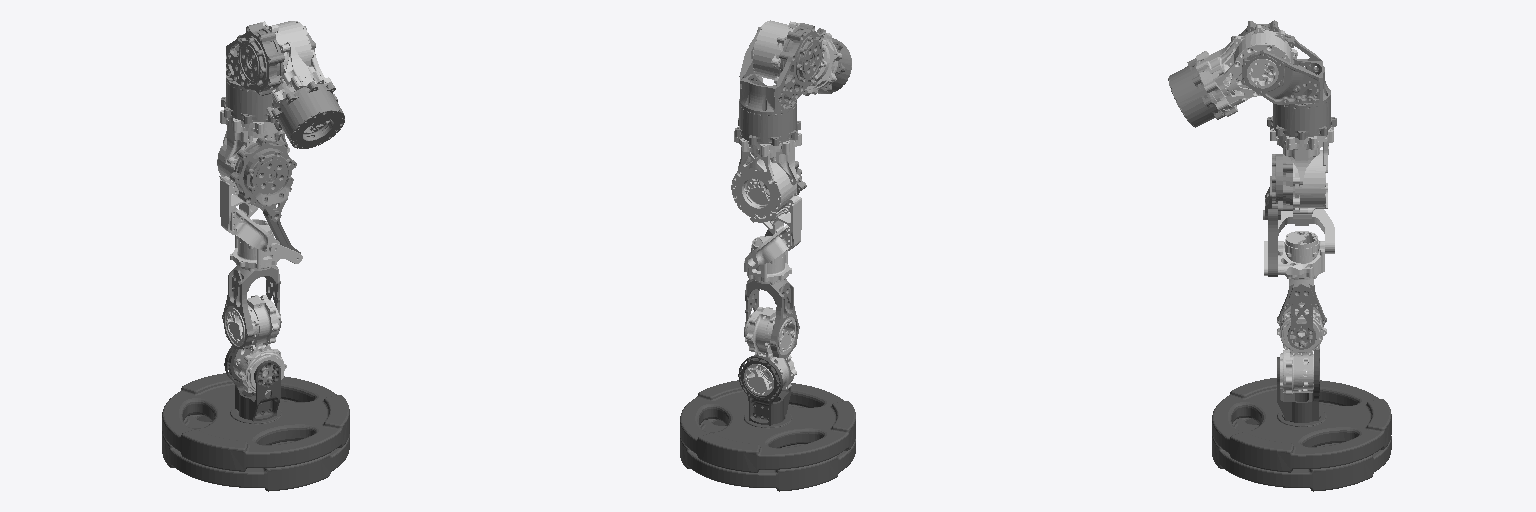
The robot description file, URDF, robot "raipal_stub-10_L":
<?xml version="1.0" encoding="utf-8"?>
<robot name="raipal_stub-10_L">
  <!-- [URDF-WRITER] Created with urdf-writer script (by CHH) on 2026-01-27 21:55:36.753602-->

  <!-- [URDF-WRITER] from module [_fixed-base] -->

  <!-- this link makes the robot fixed-base in RAISIM -->
  <link name="world"></link>

  <link name="base"></link>

  <joint name="base_fix" type="fixed">
    <origin xyz="0 0 0.8" rpy="0 0 0"/>
    <parent link="world" />
    <child link="base" />
    <axis xyz="0 0 0" />
  </joint>


  <!-- [URDF-WRITER] from module [raipal_L] -->

  <link name="L_base">
    <!-- CHH / 2025-09-01-20:14 -->
    <!-- mirrored from [L_base] (frame: R0_base)-->
    <inertial>
      <origin 
        xyz="-0.00013000 0.06389000 -0.05559000"
        rpy="0 0 0" />
      <mass value="0.79658000" />
      <inertia
          ixx="0.00074742"
          ixy="-1.892780e-6"
          ixz="-1.179560e-6"
          iyy="0.00098187"
          iyz="0.00013334"
          izz="0.00082394" />
    </inertial>
    <visual>
      <origin
        xyz="0 0 0"
        rpy="0 0 0" />
      <geometry>
        <mesh filename="../meshes/L_base.STL" />
      </geometry>
      <material name="">
        <color rgba=".6 .6 .6 1" />
      </material>
    </visual>
    <!--</collision>
      <origin
        xyz="0 0 0"
        rpy="0 0 0" />
      <geometry>
        <mesh filename="../meshes/L_base.STL" />
      </geometry>
    </collision>-->
  </link>

  <joint name="L_fix" type="fixed">
    <origin xyz="0 0 0" rpy="0 0 0"/>
    <parent link="base" />
    <child link="L_base" />
    <axis xyz="0 0 0" />
  </joint>

  <link name="L_collar">
    <!-- CHH / 2025-09-01-20:14 -->
    <!-- mirrored from [L_collar] (frame: R1_flexion)-->
    <inertial>
      <origin 
        xyz="0.00471000 1.000000e-5 0.10057000"
        rpy="0 0 0" />
      <mass value="1.72283000" />
      <inertia
          ixx="0.00466072"
          ixy="-5.127800e-7"
          ixz="-0.00028338"
          iyy="0.00434837"
          iyz="-8.010400e-7"
          izz="0.00167296" />
    </inertial>
    <visual>
      <origin
        xyz="0 0 0"
        rpy="0 0 0" />
      <geometry>
        <mesh filename="../meshes/L_collar.STL" />
      </geometry>
      <material name="">
        <color rgba="0.8 0.8 0.8 1" />
      </material>
    </visual>
    <!--</collision>
      <origin
        xyz="0 0 0"
        rpy="0 0 0" />
      <geometry>
        <mesh filename="../meshes/L_collar.STL" />
      </geometry>
    </collision>-->
  </link>

  <joint name="L1_flexion" type="revolute"> <!--[0]-->
    <origin
      xyz="0 0.037198 -0.0709"
      rpy="-1.0472 0 0" />
    <parent link="L_base" />
    <child link="L_collar" />
    <axis
      xyz="0 0 -1" />
    <limit
      lower="-1.57"
      upper="3.14"
      effort="181"
      velocity="13.9" />
    <dynamics rotor_inertia = "0.0576402034658611" />
    <!-- Calculated by CHH on 2025-09-01-20:14-->  
  </joint>

  <link name="L_shoulder">
    <!-- CHH / 2025-09-01-20:14 -->
    <!-- mirrored from [L_shoulder] (frame: R2_adduction)-->
    <inertial>
      <origin 
        xyz="-0.03309000 -0.04277000 0.04408000"
        rpy="0 0 0" />
      <mass value="1.92988000" />
      <inertia
          ixx="0.00554587"
          ixy="-0.00224326"
          ixz="-0.00046924"
          iyy="0.00422168"
          iyz="-0.00058524"
          izz="0.00699049" />
    </inertial>
    <visual>
      <origin
        xyz="0 0 0"
        rpy="0 0 0" />
      <geometry>
        <mesh filename="../meshes/L_shoulder.STL" />
      </geometry>
      <material name="">
        <color rgba="0.6 0.6 0.6 1" />
      </material>
    </visual>
    <!--</collision>
      <origin
        xyz="0 0 0"
        rpy="0 0 0" />
      <geometry>
        <mesh filename="../meshes/L_shoulder.STL" />
      </geometry>
    </collision>-->
  </link>

  <joint name="L2_adduction" type="revolute"> <!--[1]-->
    <origin
      xyz="0.0373 0 0.1418"
      rpy="1.5707963267949 1.0472 -1.5707963267949" />
    <parent link="L_collar" />
    <child link="L_shoulder" />
    <axis
      xyz="0 0 1" />
    <limit
      lower="-2.618"
      upper="0.488"
      effort="181"
      velocity="13.9" />
    <dynamics rotor_inertia = "0.0576402034658611" /> <!-- CHH / 2025-09-01-20:30-->
  </joint>

  <link name="L_humerus">
    <!-- CHH / 2025-09-01-20:14 -->
    <!-- mirrored from [L_humerus] (frame: R3_rotation)-->
    <inertial>
      <origin 
        xyz="-0.00369000 -0.00351000 0.11625000"
        rpy="0 0 0" />
      <mass value="1.96262000" />
      <inertia
          ixx="0.00777442"
          ixy="1.197057e-5"
          ixz="0.00065917"
          iyy="0.00822155"
          iyz="0.00015972"
          izz="0.00201683" />
    </inertial>
    <visual>
      <origin
        xyz="0 0 0"
        rpy="0 0 0" />
      <geometry>
        <mesh filename="../meshes/L_humerus.STL" />
      </geometry>
      <material name="">
        <color rgba="0.8 0.8 0.8 1" />
      </material>
    </visual>
    <!--</collision>
      <origin
        xyz="0 0 0"
        rpy="0 0 0" />
      <geometry>
        <mesh filename="../meshes/L_humerus.STL" />
      </geometry>
    </collision>-->
  </link>

  <joint name="L3_rotation" type="revolute"> <!--[2]-->
    <origin
      xyz="-0.06 -0.06025 0.0373"
      rpy="1.5707963267949 1.5707963267949 0" />
    <parent link="L_shoulder" />
    <child link="L_humerus" />
    <axis
      xyz="0 0 1" />
    <limit
      lower="-3.14"
      upper="3.14"
      effort="181"
      velocity="13.9" />
    <dynamics rotor_inertia = "0.0576402034658611" /> <!-- CHH / 2025-09-01-20:30-->
  </joint>

  <link name="L_elb_input">
    <!-- CHH / 2025-09-01-20:14 -->
    <!-- mirrored from [L_elb_input] (frame: R4a_elbow_power)-->
    <inertial>
      <origin 
        xyz="-2.000000e-5 -0.00335000 0.05897000"
        rpy="0 0 0" />
      <mass value="0.83412000" />
      <inertia
          ixx="0.00071114"
          ixy="-7.660000e-7"
          ixz="-9.255500e-7"
          iyy="0.00059983"
          iyz="5.504818e-5"
          izz="0.00080767" />
    </inertial>
    <visual>
      <origin
        xyz="0 0 0"
        rpy="0 0 0" />
      <geometry>
        <mesh filename="../meshes/L_elb_input.STL" />
      </geometry>
      <material name="">
        <color rgba="0.6 0.6 0.6 1" />
      </material>
    </visual>
    <!--</collision>
      <origin
        xyz="0 0 0"
        rpy="0 0 0" />
      <geometry>
        <mesh filename="../meshes/L_elb_input.STL" />
      </geometry>
    </collision>-->
  </link>

  <joint name="L4a_elbow_power" type="revolute"> <!--[3]-->
    <origin
      xyz="0 -0.0373 0.1418"
      rpy="-1.5707963267949 0 0" />
    <parent link="L_humerus" />
    <child link="L_elb_input" />
    <axis
      xyz="0 0 -1" />
    <limit
      lower="0"
      upper="1.556"
      effort="181"
      velocity="13.9" />
    <dynamics rotor_inertia = "0.0576402034658611" /> <!-- CHH / 2025-09-01-20:30-->
  </joint>

  <link name="L_elb_bar">
    <!-- CHH / 2025-09-01-20:14 -->
    <!-- mirrored from [L_elb_bar] (frame: R4b_elbow_bar_input)-->
    <inertial>
      <origin 
        xyz="0.04274000 -0.00159000 -4.000000e-5"
        rpy="0 0 0" />
      <mass value="0.05314000" />
      <inertia
          ixx="2.335610e-6"
          ixy="0.0"
          ixz="0.0"
          iyy="6.149582e-5"
          iyz="3.110000e-9"
          izz="6.199993e-5" />
    </inertial>
    <visual>
      <origin
        xyz="0 0 0"
        rpy="0 0 0" />
      <geometry>
        <mesh filename="../meshes/L_elb_bar.STL" />
      </geometry>
      <material name="">
        <color rgba="0.5 0.5 0.5 1" />
      </material>
    </visual>
    <!--</collision>
      <origin
        xyz="0 0 0"
        rpy="0 0 0" />
      <geometry>
        <mesh filename="../meshes/L_elb_bar.STL" />
      </geometry>
    </collision>-->
  </link>

  <joint name="L4b_elbow_bar_input" type="revolute">  <!--[4-unpowered]-->
    <origin
      xyz="0.00134978286029327 -0.0599848154638326 0.0812119041053838"
      rpy="0 0 -1.12941902735751" />
    <parent link="L_elb_input" />
    <child link="L_elb_bar" />
    <axis
      xyz="0 0 1" />
    <limit
      lower="0"
      upper="1.802"
      effort="0"
      velocity="100" />
  </joint>

  <link name="L_ulna">
    <!-- CHH / 2025-09-01-20:14 -->
    <!-- mirrored from [L_ulna] (frame: R4_elbow)-->
    <inertial>
      <origin 
        xyz="0.00533000 -0.01576000 -0.03891000"
        rpy="0 0 0" />
      <mass value="0.36947000" />
      <inertia
          ixx="0.00032310"
          ixy="1.385696e-5"
          ixz="-4.244104e-5"
          iyy="0.00036383"
          iyz="5.919040e-6"
          izz="0.00020708" />
    </inertial>
    <visual>
      <origin
        xyz="0 0 0"
        rpy="0 0 0" />
      <geometry>
        <mesh filename="../meshes/L_ulna.STL" />
      </geometry>
      <material name="">
        <color rgba="0.8 0.8 0.8 1" />
      </material>
    </visual>
    <!--</collision>
      <origin
        xyz="0 0 0"
        rpy="0 0 0" />
      <geometry>
        <mesh filename="../meshes/L_ulna.STL" />
      </geometry>
    </collision>-->
  </link>

  <joint name="L4_elbow" type="revolute">  <!--[5-unpowered]-->
    <origin
      xyz="0 0.043912 0.25475"
      rpy="-1.5707963267949 0 0" />
    <parent link="L_humerus" />
    <child link="L_ulna" />
    <axis
      xyz="0 0 1" />
    <limit
      lower="0"
      upper="2.2689"
      effort="0"
      velocity="100" />
  </joint>

  <link name="L_radius">
    <!-- CHH / 2025-09-01-20:14 -->
    <!-- link name: [L_radius]-->
    <!-- frame: [L5_roll]-->
    <inertial>
      <origin 
        xyz="0.00151000 0.0 0.10290000"
        rpy="0 0 0" />
      <mass value="0.42307000" />
      <inertia
          ixx="0.00112662"
          ixy="1.975000e-8"
          ixz="-5.589578e-5"
          iyy="0.00120471"
          iyz="-1.556000e-8"
          izz="0.00024138" />
    </inertial>
    <visual>
      <origin
        xyz="0 0 0"
        rpy="0 0 0" />
      <geometry>
        <mesh filename="../meshes/L_radius.STL" />
      </geometry>
      <material name="">
        <color rgba="0.6 0.6 0.6 1" />
      </material>
    </visual>
    <!--<collision>
      <origin
        xyz="0 0 0"
        rpy="0 0 0" />
      <geometry>
        <mesh filename="../meshes/L_radius.STL" />
      </geometry>
    </collision>-->
  </link>

  <joint name="L5_roll" type="revolute"> <!--[6]-->
    <origin
      xyz="0 0.0135819531869474 -0.0439119041053754"
      rpy="1.5707963267949 0 0" />
    <parent link="L_ulna" />
    <child link="L_radius" />
    <axis
      xyz="0 0 1" />
    <limit
      lower="-1.57"
      upper="1.57"
      effort="12.61"
      velocity="53.8" />
    <dynamics rotor_inertia = "0.000540543349430043" /> <!-- CHH / 2025-09-01-20:30-->
  </joint>

  <link name="L_carpal">
    <!-- CHH / 2025-09-01-20:14 -->
    <!-- link name: [L_carpal]-->
    <!-- frame: [L6_pitch]-->
    <inertial>
      <origin 
        xyz="-0.00117000 -0.03421000 0.02964000"
        rpy="0 0 0" />
      <mass value="0.67981000" />
      <inertia
          ixx="0.00128813"
          ixy="-3.134577e-5"
          ixz="3.268690e-6"
          iyy="0.00040998"
          iyz="9.323146e-5"
          izz="0.00126953" />
    </inertial>
    <visual>
      <origin
        xyz="0 0 0"
        rpy="0 0 0" />
      <geometry>
        <mesh filename="../meshes/L_carpal.STL" />
      </geometry>
      <material name="">
        <color rgba="0.8 0.8 0.8 1" />
      </material>
    </visual>
    <!--<collision>
      <origin
        xyz="0 0 0"
        rpy="0 0 0" />
      <geometry>
        <mesh filename="../meshes/L_carpal.STL" />
      </geometry>
    </collision>-->
  </link>

  <joint name="L6_pitch" type="revolute"> <!--[7]-->
    <origin
      xyz="-0.0337 0 0.153581953186935"
      rpy="-1.5707963267949 0 -1.5707963267949" />
    <parent link="L_radius" />
    <child link="L_carpal" />
    <axis
      xyz="0 0 -1" />
    <limit
      lower="-2.0944"
      upper="2.0944"
      effort="12.61"
      velocity="53.8" />
    <dynamics rotor_inertia = "0.000540543349430043" /> <!-- CHH / 2025-09-01-20:30-->
  </joint>

  <link name="L_ee">
    <!-- CHH / 2025-09-01-20:14 -->
    <!-- link name: [L_ee]-->
    <!-- frame: [L7_yaw]-->
    <inertial>
      <origin 
        xyz="0.0 0.0 0.04531000"
        rpy="0 0 0" />
      <mass value="0.13143000" />
      <inertia
          ixx="3.339173e-5"
          ixy="0.0"
          ixz="0.0"
          iyy="3.339173e-5"
          iyz="0.0"
          izz="4.133016e-5" />
    </inertial>
    <visual>
      <origin
        xyz="0 0 0"
        rpy="0 0 0" />
      <geometry>
        <mesh filename="../meshes/L_ee.STL" />
      </geometry>
      <material name="">
        <color rgba="0.6 0.6 0.6 1" />
      </material>
    </visual>
    <!--<collision>
      <origin
        xyz="0 0 0"
        rpy="0 0 0" />
      <geometry>
        <mesh filename="../meshes/L_ee.STL" />
      </geometry>
    </collision>-->
  </link>

  <joint name="L7_yaw" type="revolute"> <!--[8]-->
    <origin
      xyz="0.0264 -0.073 0.0337"
      rpy="0 -1.5707963267949 0" />
    <parent link="L_carpal" />
    <child link="L_ee" />
    <axis
      xyz="0 0 1" />
    <limit
      lower="-1.57079"
      upper="1.57079"
      effort="12.61"
      velocity="53.8" />
    <dynamics rotor_inertia = "0.000540543349430043" /> <!-- CHH / 2025-09-01-20:30-->
  </joint>

  <!-- imaginary links for loop closure -->
  <link name="L_loop_barside"></link>

  <joint name="L4cA_elbow_loop_bar" type="fixed">
    <origin
      xyz="0.0854747786370337 0 0"
      rpy="0 0 0" />
    <parent link="L_elb_bar" />
    <child link="L_loop_barside" />
    <axis
      xyz="0 0 -1" />
    <limit
      lower="-3.14"
      upper="3.14"
      effort="0"
      velocity="100" />
  </joint>

  <link name="L_loop_ulnaside"></link>

  <joint name="L4cB_elbow_loop_ulna_fixed" type="fixed">
    <origin
      xyz="0.0378633410992504 -0.0243180468130526 0"
      rpy="0 0 -1.12941902735751" />
    <parent link="L_ulna" />
    <child link="L_loop_ulnaside" />
    <axis
      xyz="0 0 0" />
  </joint>

  

  <!-- [URDF-WRITER] from module [stub-10_L] -->
  <link name="L_stub">
    <!-- CHH / 2025-10-17-16:12 -->
    <!-- link name: [stub-10]-->
    <!-- frame: [LE_end-effector]-->
    <inertial>
      <origin 
        xyz="4.000000e-5 -0.10515000 0.02631000"
        rpy="0 0 0" />
      <mass value="10.52298000" />
      <inertia
          ixx="0.05836641"
          ixy="1.193012e-5"
          ixz="-3.170800e-7"
          iyy="0.10652337"
          iyz="0.00011810"
          izz="0.05832640" />
    </inertial>

    <visual>
      <origin
        xyz="0 0 0"
        rpy="0 0 0" />
      <geometry>
        <mesh filename="../meshes/stub_10.STL" />
      </geometry>
      <material name="">
        <color rgba="0.4 0.4 0.4 1" />
      </material>
    </visual>
  </link>

  <joint name="LE_end_effector_fixed" type="fixed">
    <origin
      xyz="0 0 0"
      rpy="0 0 0" />
    <parent link="L_ee" />
    <child link="L_stub" />
    <axis
      xyz="0 0 0" />
  </joint>

  <link name="L_stub-tip"></link>

  <joint name="LE_tip_fixed" type="fixed">
    <origin
      xyz="0 -0.157 0.0264"
      rpy="+1.5708 0 0" />
    <parent link="L_stub" />
    <child link="L_stub-tip" />
    <axis
      xyz="0 0 0" />
  </joint>
  <!-- [URDF-WRITER] merged constraints -->
  <constraints nominal_config="0 0 0 0 0 0 0 0 0 0 0 0 0 0 0 0 0 0 0 0 0">
    <pin body1="L_loop_barside" body2="L_loop_ulnaside" anchor="0.0 0.0 0.0"/>
  </constraints>

</robot>

--- Render facts (derived) ---
The picture shows the robot from 3 angles, left to right: view 1: azimuth 30°, elevation 25°; view 2: azimuth 150°, elevation 25°; view 3: azimuth 270°, elevation 25°; orthographic projection.
Robot: raipal_stub-10_L — 16 links, 15 joints (9 revolute, 6 fixed); root link world; default pose: every joint at zero.
Links seen in each view (by area): view 1: L_stub, L_shoulder, L_humerus, L_elb_input, L_base, L_carpal, L_collar, L_radius, L_ulna; view 2: L_stub, L_shoulder, L_humerus, L_carpal, L_collar, L_radius, L_ulna, L_base; view 3: L_stub, L_shoulder, L_collar, L_humerus, L_carpal, L_ulna, L_base, L_radius, L_elb_input, L_elb_bar.
Link boxes in pixels (left/top/right/bottom): L_stub: left=162, top=345, right=349, bottom=491; L_shoulder: left=221, top=23, right=315, bottom=123; L_humerus: left=217, top=110, right=289, bottom=254; L_elb_input: left=230, top=138, right=296, bottom=221; L_base: left=271, top=81, right=344, bottom=148; L_carpal: left=226, top=295, right=286, bottom=394; L_collar: left=260, top=21, right=331, bottom=118; L_radius: left=222, top=265, right=281, bottom=349; L_ulna: left=230, top=219, right=302, bottom=271; L_stub: left=680, top=355, right=855, bottom=491; L_shoulder: left=735, top=23, right=824, bottom=145; L_humerus: left=731, top=131, right=801, bottom=268; L_carpal: left=744, top=307, right=796, bottom=395; L_collar: left=752, top=20, right=841, bottom=94; L_radius: left=744, top=279, right=799, bottom=357; L_ulna: left=744, top=236, right=791, bottom=284; L_base: left=802, top=28, right=851, bottom=95; L_stub: left=1212, top=349, right=1391, bottom=491; L_shoulder: left=1231, top=20, right=1336, bottom=139; L_collar: left=1196, top=25, right=1297, bottom=116; L_humerus: left=1270, top=127, right=1334, bottom=253; L_carpal: left=1277, top=303, right=1326, bottom=394; L_ulna: left=1264, top=231, right=1324, bottom=279; L_base: left=1168, top=58, right=1225, bottom=127; L_radius: left=1277, top=279, right=1326, bottom=349; L_elb_input: left=1263, top=154, right=1292, bottom=219; L_elb_bar: left=1268, top=209, right=1277, bottom=276.
Bounding box of the posed robot: 0.2759 × 0.3429 × 0.7385 m (x, y, z).
Meshes: 11 distinct files referenced, 11 mesh visuals loaded (11 binary STL).
